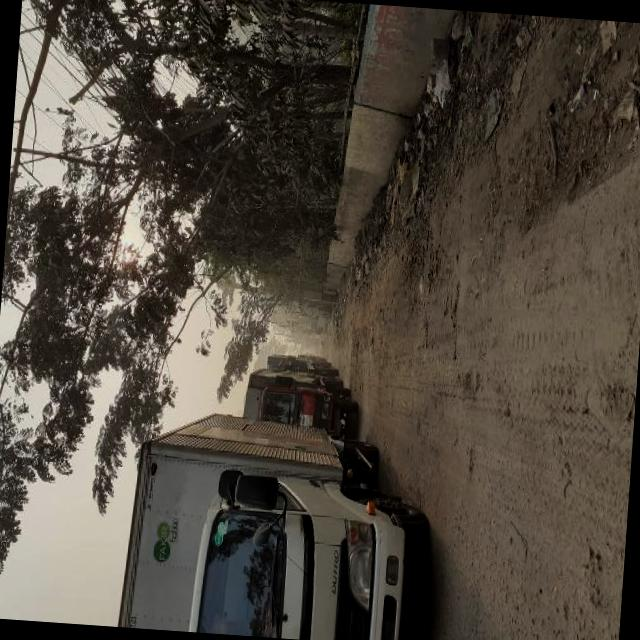truck: (114, 410, 430, 640), (241, 368, 358, 431)
